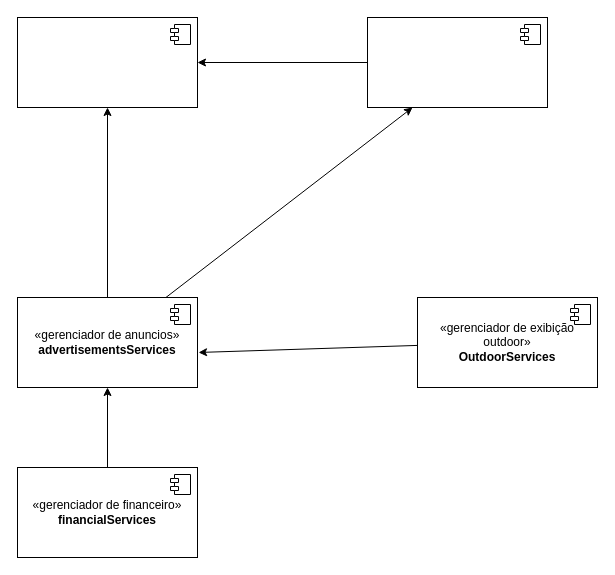
The diagram is 615 pixels wide and 575 high, and some of its shapes have lost their labels. The shapes that lost their labels are listed below. From the top down, each one's centre as x and y in pixels, then its label:
At pixel 107 62: "«gerenciador de usuários» UserServices".
At pixel 457 62: "«gerenciador de empresas» enterpriseService".
